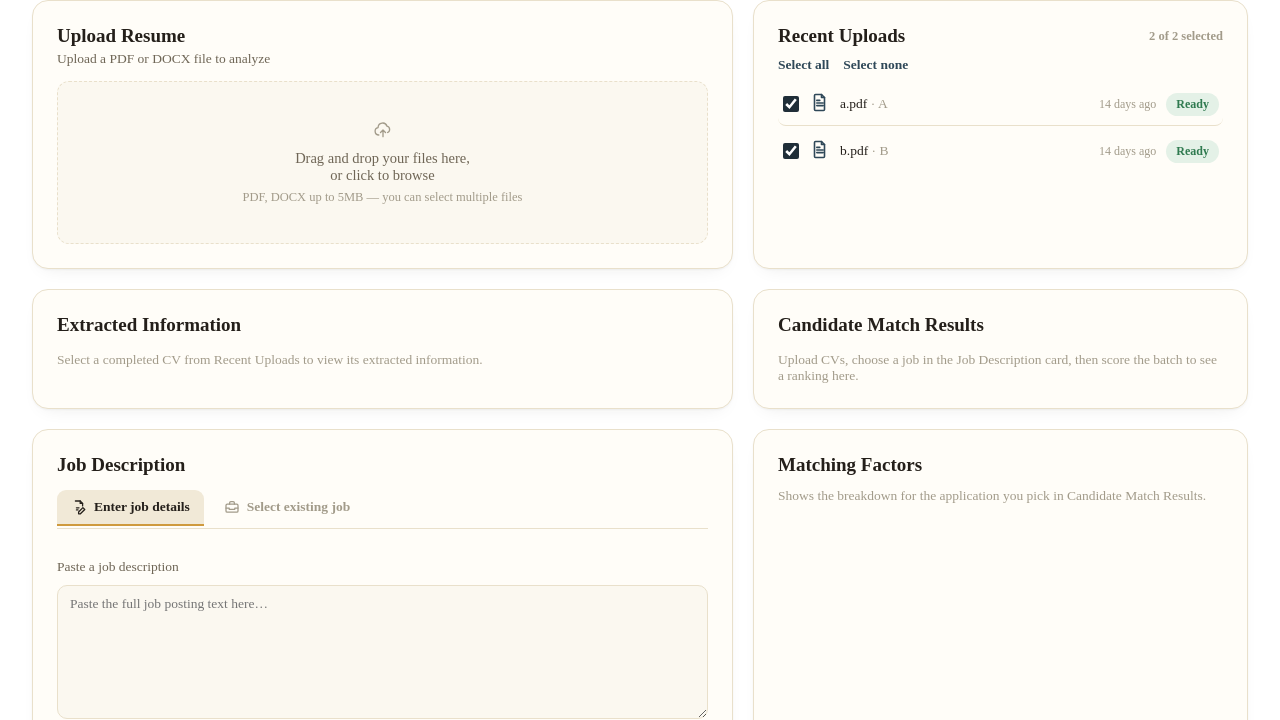
Test: DashboardPage - the batch survives a reload › ticking a row removes it from the batch and Select none / Select all work
Expected: the text "2 of 2 selected" is shown, left=1149, top=28, right=1223, bottom=44
Click the checkbox named "Include a.pdf in the batch": (791, 104) left=783, top=96, right=799, bottom=112
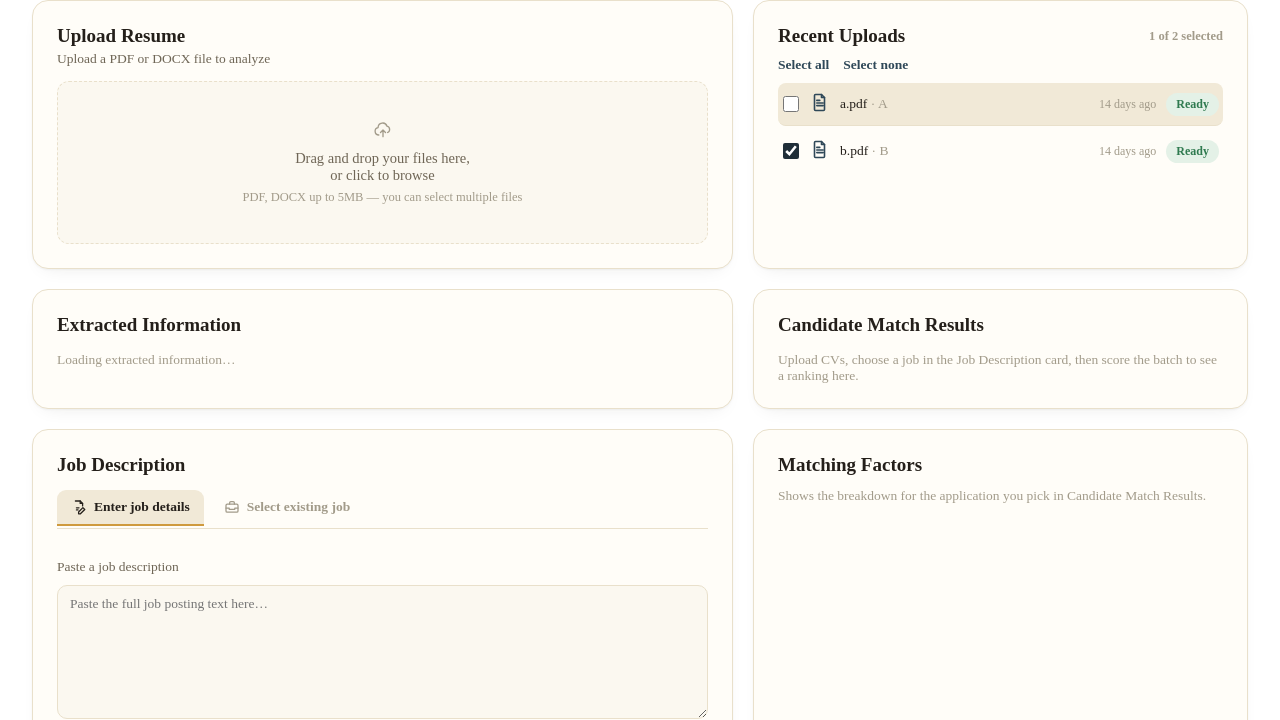
Result: the checkbox named "Include a.pdf in the batch" is not checked at left=783, top=96, right=799, bottom=112
Result: the text "1 of 2 selected" is shown at left=1149, top=28, right=1223, bottom=44
Click the button "Select none": (876, 65) left=843, top=57, right=908, bottom=73
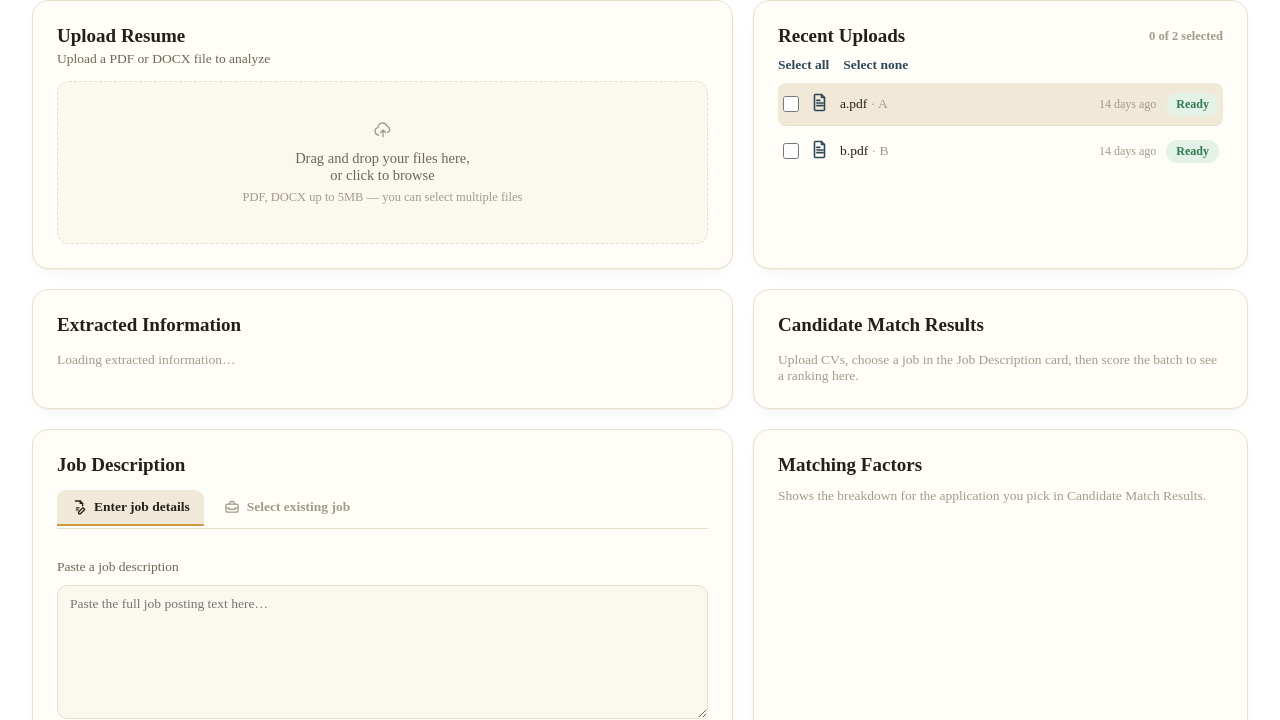
Result: the text "0 of 2 selected" is shown at left=1149, top=28, right=1223, bottom=44
Click the button "Select all": (804, 65) left=778, top=57, right=829, bottom=73
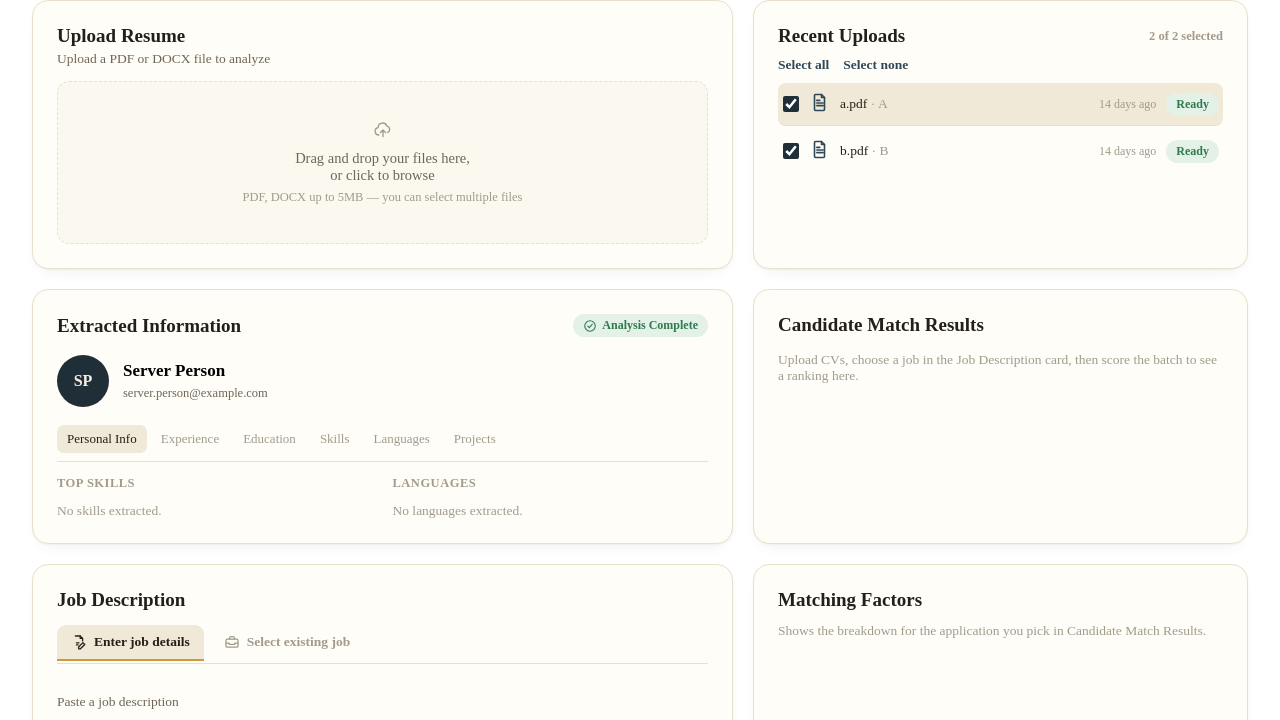
Result: the text "2 of 2 selected" is shown at left=1149, top=28, right=1223, bottom=44
